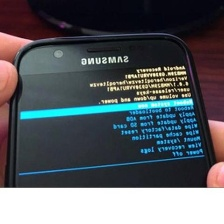phone: (2, 29, 224, 224)
